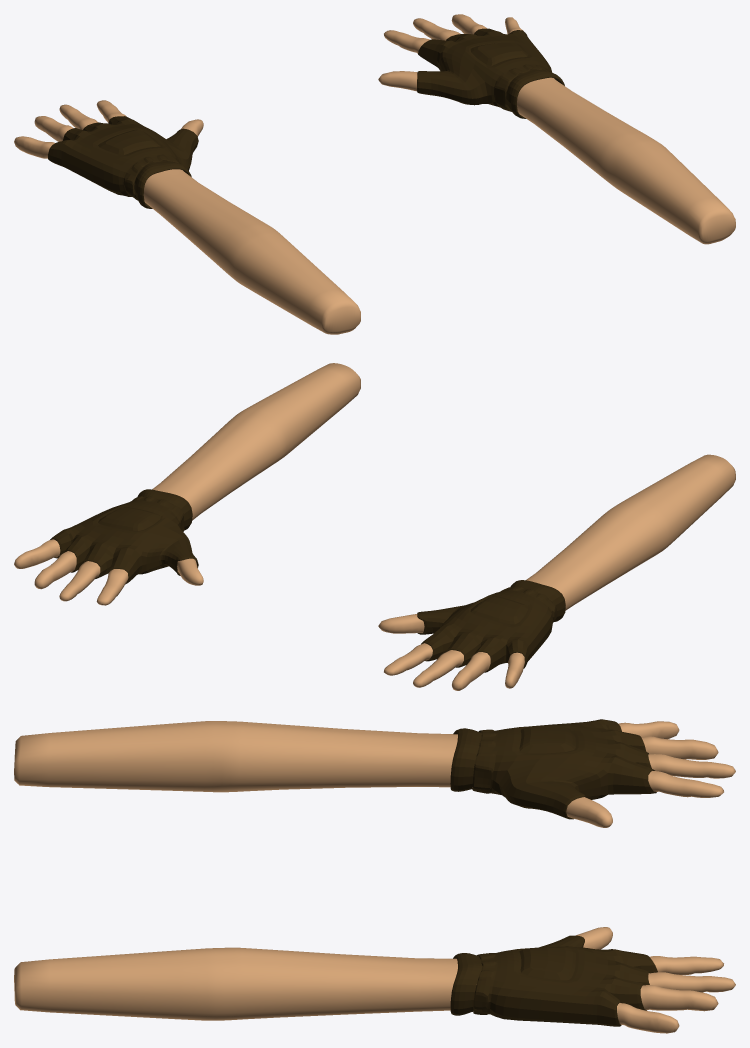
Rendered from hands.fbx.
3 renders of one model, top to bottom at view 1: azimuth 30°, elevation 25°; view 2: azimuth 150°, elevation 25°; view 3: azimuth 270°, elevation 25°, orthographic. The views are drawn at different scales.
Visible parts, largest first — view 1: Hand, Glove2; view 2: Hand, Glove2; view 3: Hand, Glove2.
Part boxes in pixels (<box>): Hand: <box>14,14,735,334</box>; Glove2: <box>48,28,564,208</box>; Hand: <box>14,363,735,690</box>; Glove2: <box>50,489,565,672</box>; Hand: <box>14,721,735,1033</box>; Glove2: <box>450,719,657,1026</box>.
Size of the model in its own units: 1841 by 177 by 1871.
